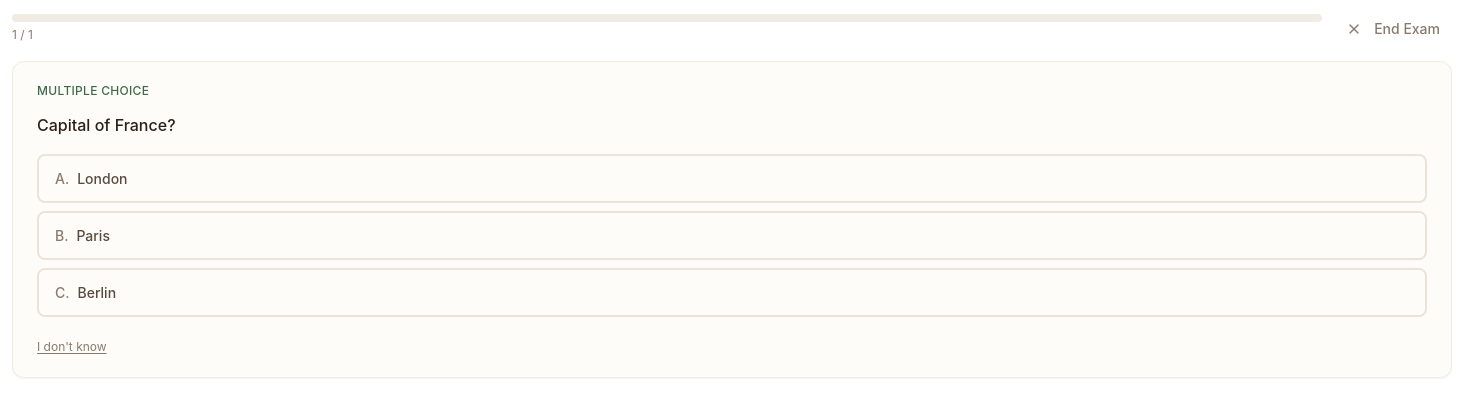
Test: KnowledgeExamSession › renders Multiple Choice question card and shows feedback
The width and height of the screenshot is (1464, 396).
Note: Button accessible name is "B.Paris" (no space — JSX strips whitespace between span and text node)
Click the button named "B. Paris". click: (93, 236)
box: top-left (37, 211), bottom-right (1427, 260)
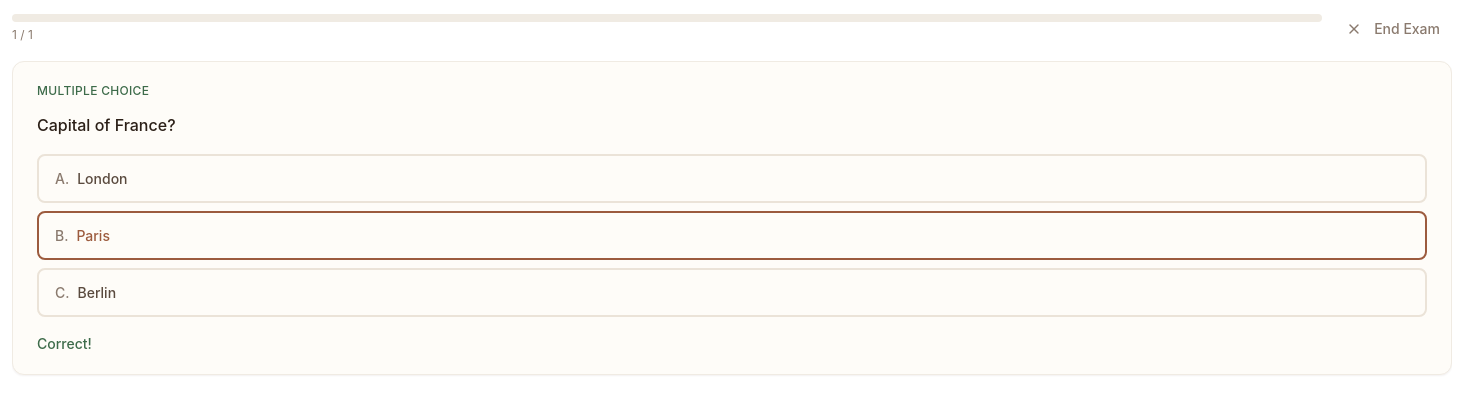
Now the text "Correct!" is shown, box top-left (37, 335), bottom-right (92, 352)
